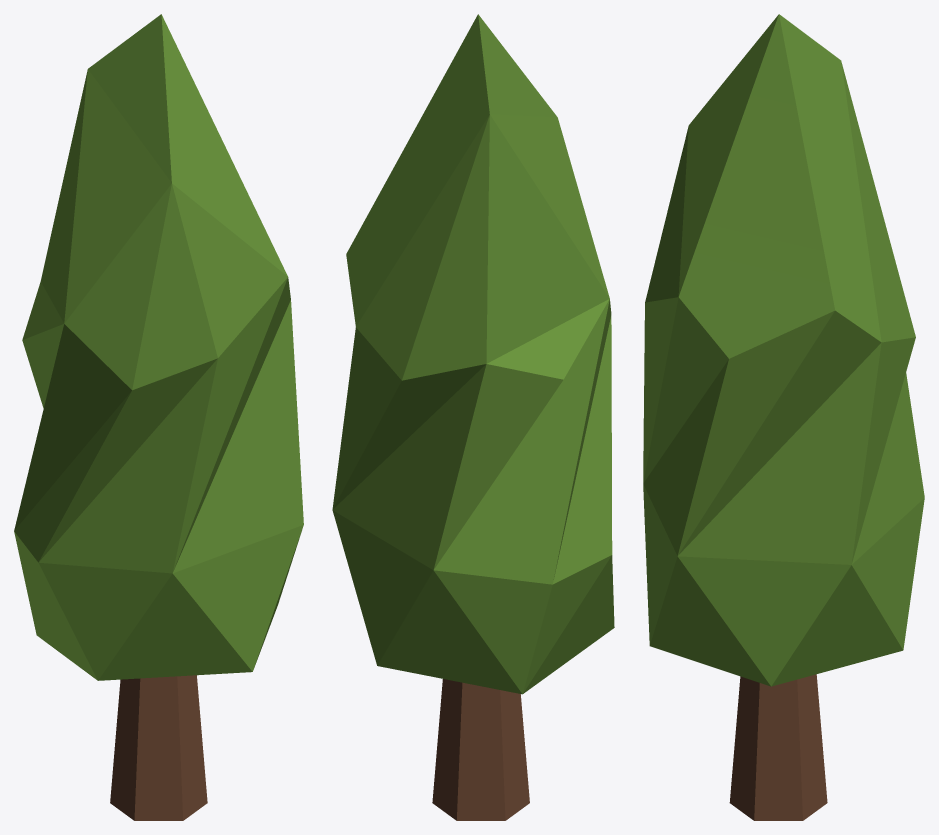
Rendered from SPW_Natures_Tree_03.glb.
3 renders of one model, left to right at view 1: azimuth 30°, elevation 25°; view 2: azimuth 150°, elevation 25°; view 3: azimuth 270°, elevation 25°, orthographic.
Visible parts, largest first — view 1: SPW_Natures_Tree_03; view 2: SPW_Natures_Tree_03; view 3: SPW_Natures_Tree_03.
Boxes of the visible parts, <box> form: SPW_Natures_Tree_03: <box>14,14,303,820</box>; SPW_Natures_Tree_03: <box>332,14,614,820</box>; SPW_Natures_Tree_03: <box>643,14,924,820</box>.
Bounding box in the file's own units: 1.43 × 4.46 × 1.44.
1 material, 1 textured.
